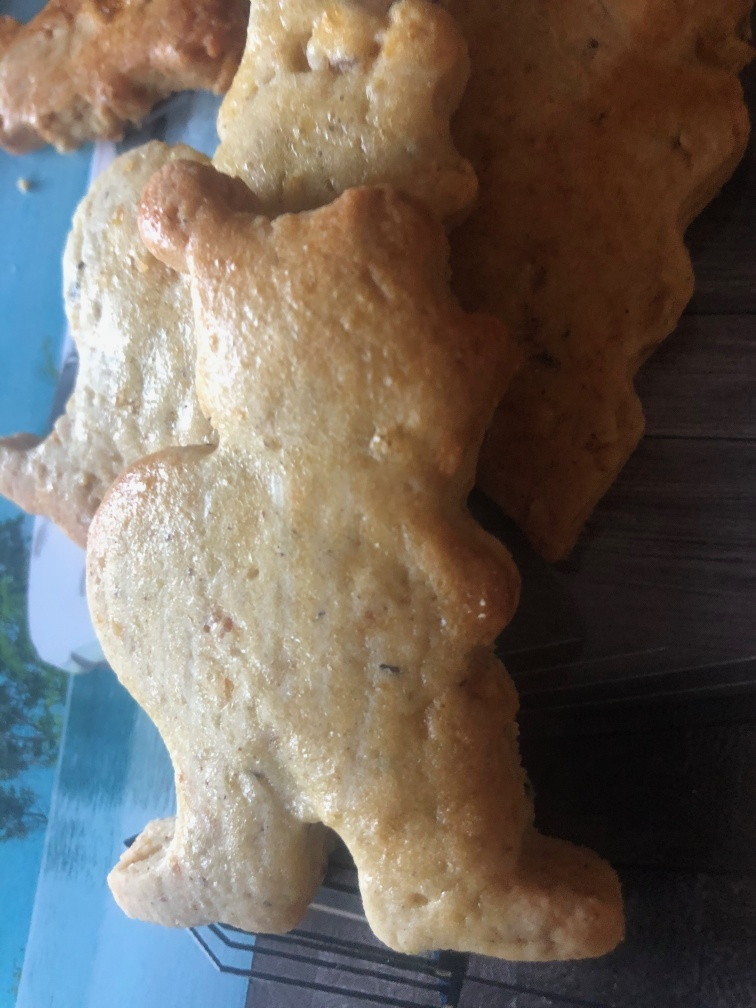christmas tree: (459, 1, 752, 597)
santa claus: (80, 155, 622, 968)
